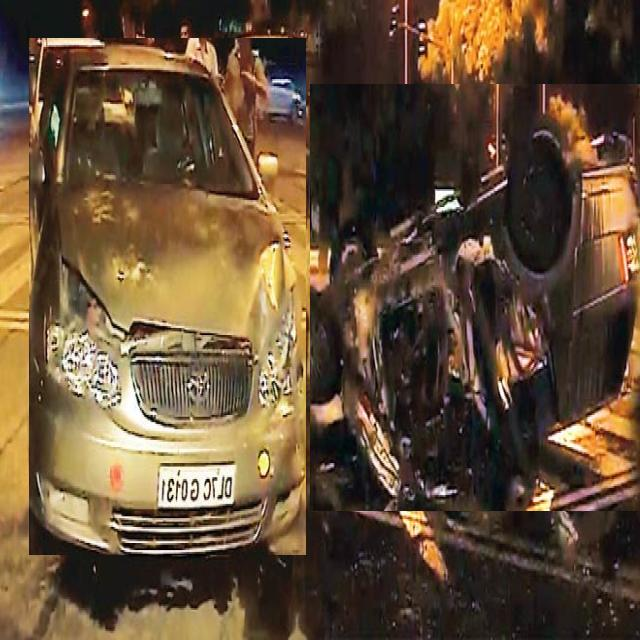accident: (29, 39, 306, 555), (310, 85, 640, 511)
